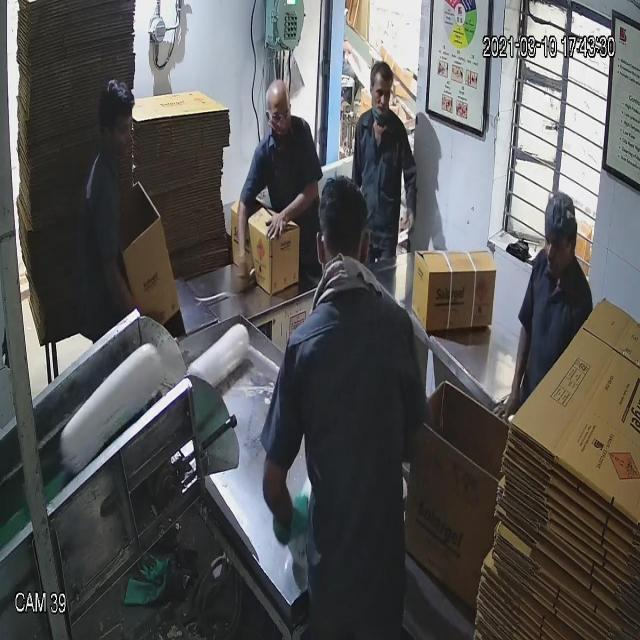No_Gloves: (34, 59, 505, 363)
